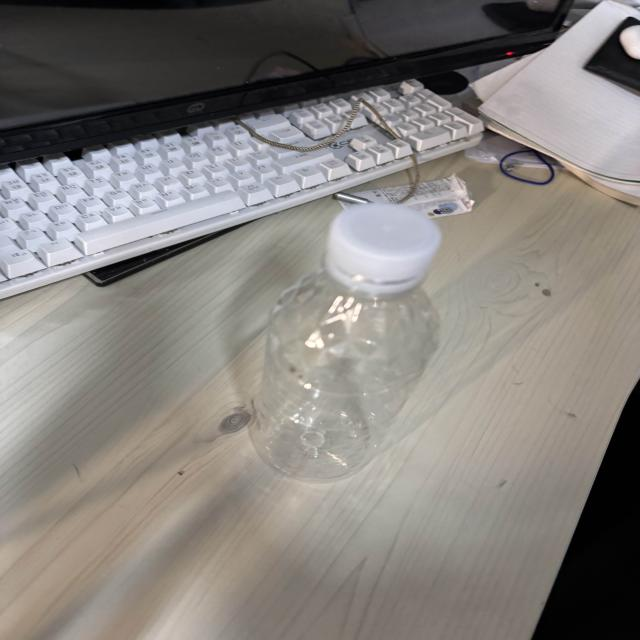Plastic: (218, 195, 475, 513)
